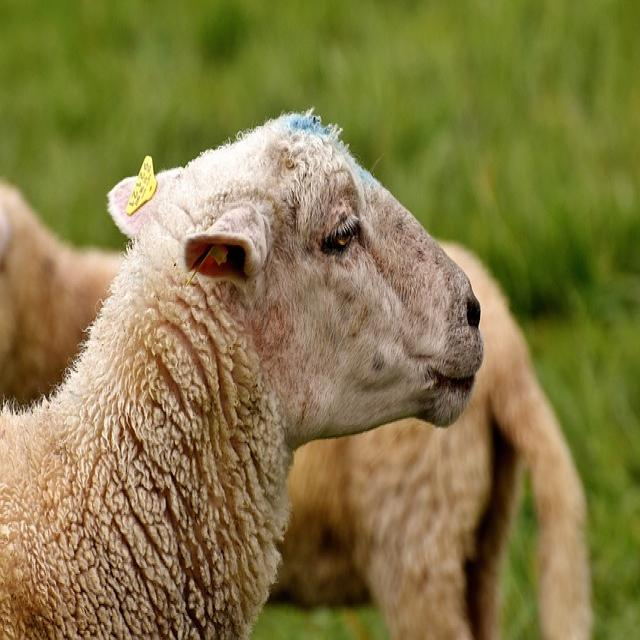goat: (0, 110, 487, 640)
